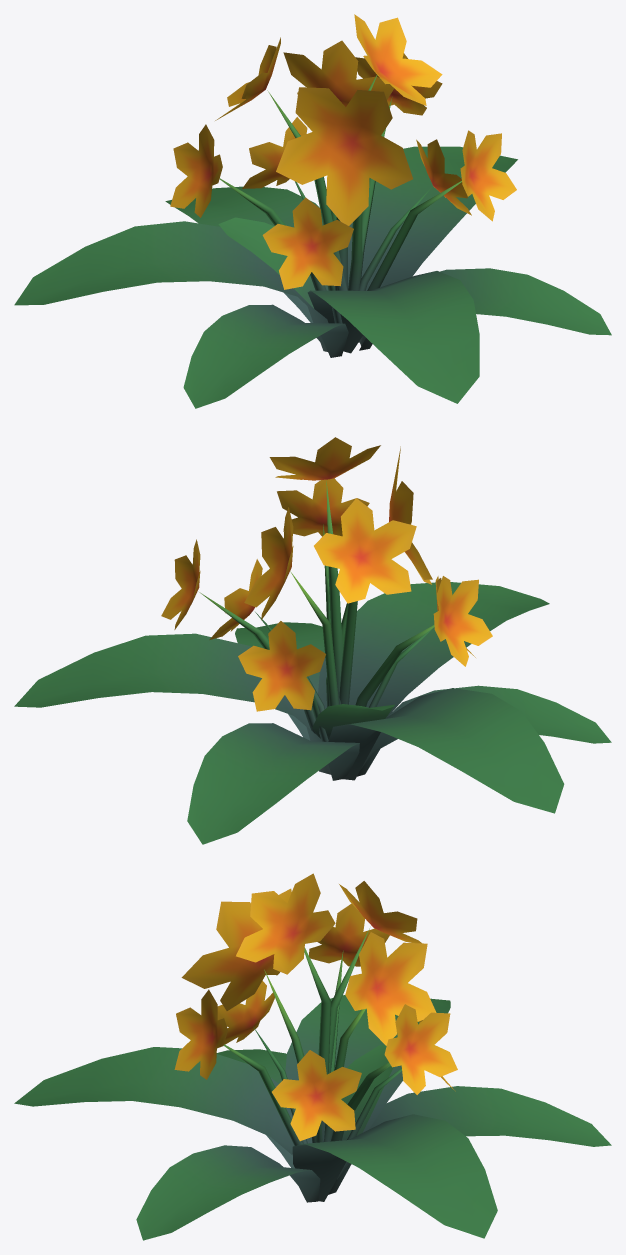
Rendered from flower4.glb.
3 renders of one model, top to bottom at view 1: azimuth 30°, elevation 25°; view 2: azimuth 150°, elevation 25°; view 3: azimuth 270°, elevation 25°, orthographic. The views are drawn at different scales.
Parts seen in each view (by area): view 1: Flower.004; view 2: Flower.004; view 3: Flower.004.
Part boxes in pixels (box(x1,y1,x2,y2)): Flower.004: box(14, 14, 611, 408); Flower.004: box(14, 437, 611, 844); Flower.004: box(14, 873, 611, 1240).
Size of the model in its own units: 4.09 by 2.55 by 4.25.
Materials: 1 (1 with a texture image).
